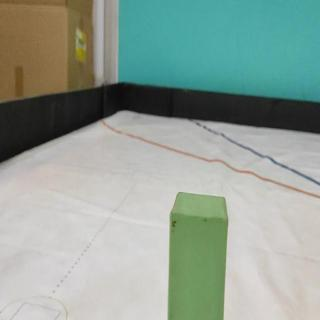greenbox: (169, 189, 229, 320)
